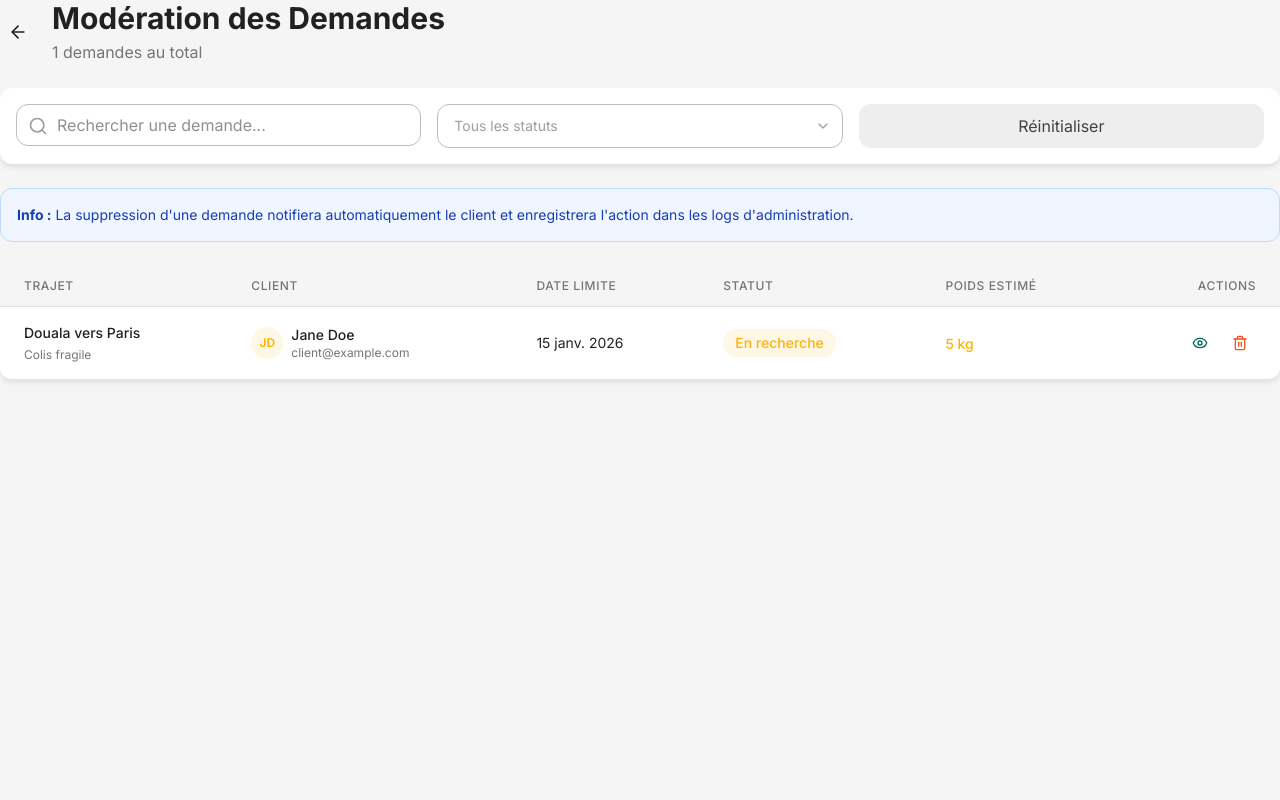
Scenario: clients/admin/demandes-clients - logique metier › ouvre la modale de suppression
Click the button named "supprimer". click: (1240, 343)
box: [1224,327,1256,359]
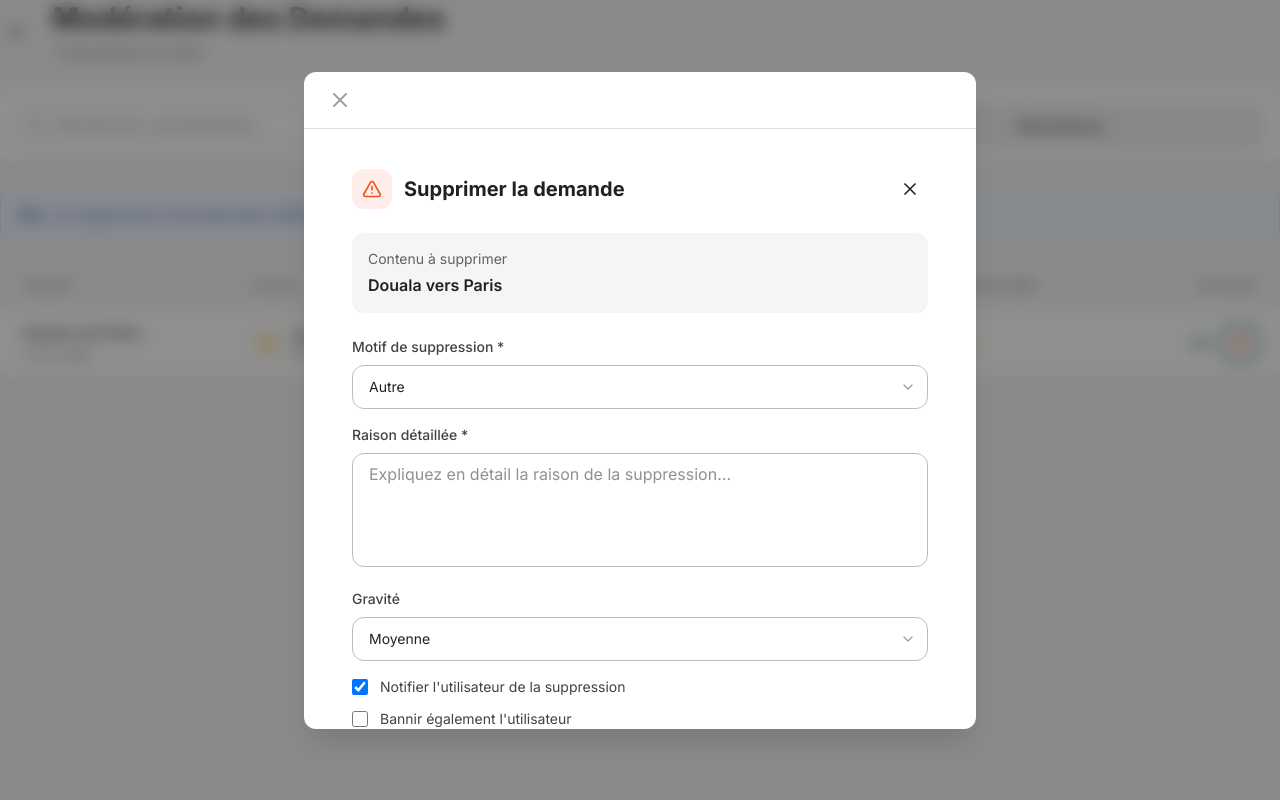
Expected: the heading "Supprimer la demande" is shown, [404,174,625,202]
